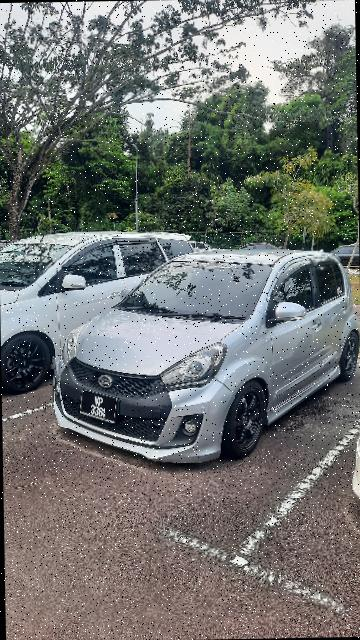License_Plate: (77, 387, 123, 430)
car: (49, 241, 360, 472), (1, 226, 206, 398)
